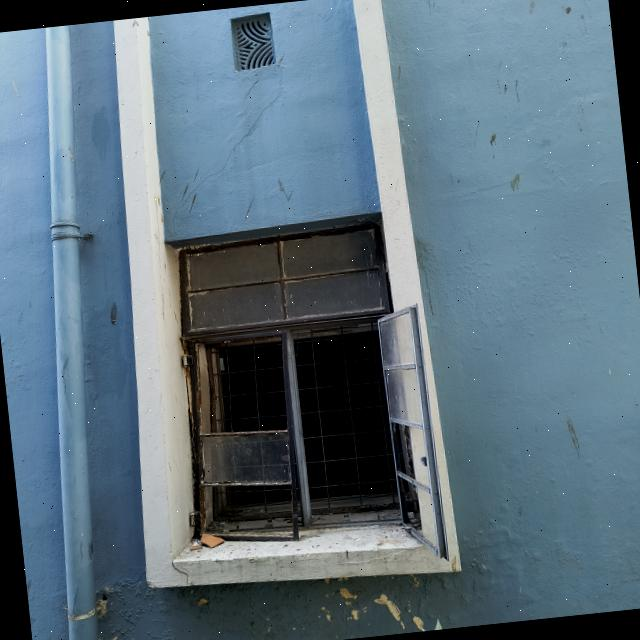Broken window pane: (194, 334, 296, 539), (379, 307, 440, 555)
Paint Peeling: (97, 571, 510, 640)
